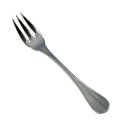fork: (9, 12, 118, 116)
